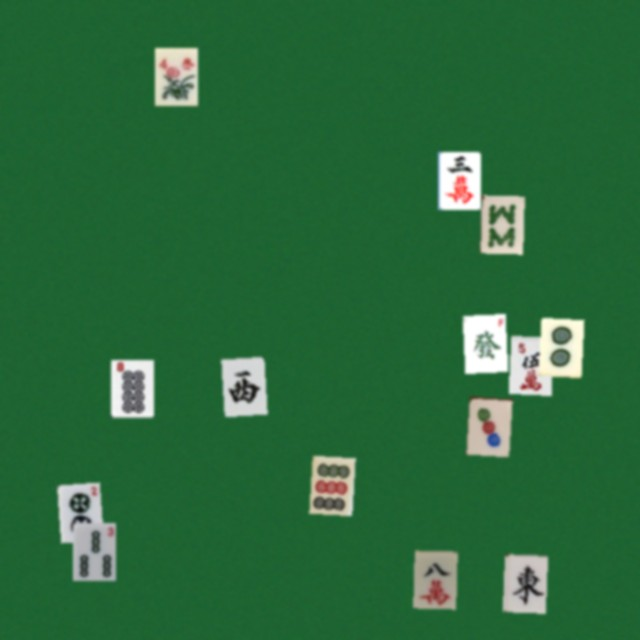tile: (110, 359, 153, 417), (56, 482, 99, 540), (309, 455, 352, 513), (154, 47, 197, 105), (72, 522, 115, 580), (502, 554, 545, 612), (508, 335, 551, 393), (462, 313, 505, 371), (480, 195, 523, 253), (413, 550, 456, 608), (538, 317, 581, 375), (466, 396, 509, 454), (221, 356, 264, 414), (437, 151, 480, 209)
